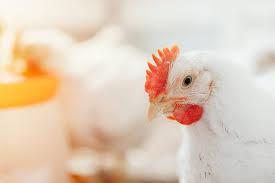AbNormal: (144, 42, 180, 104)
